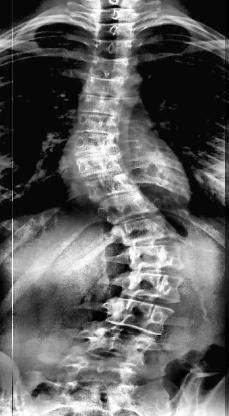Vertebrae: (82, 326, 158, 362), (100, 296, 170, 332), (118, 238, 186, 270), (114, 270, 190, 298), (115, 219, 177, 247), (101, 196, 157, 224), (82, 175, 140, 199), (76, 113, 128, 136), (68, 130, 122, 151), (83, 70, 123, 98), (78, 92, 124, 114), (78, 154, 128, 174), (90, 60, 134, 82), (91, 38, 132, 60), (96, 8, 136, 26), (96, 21, 132, 39)
